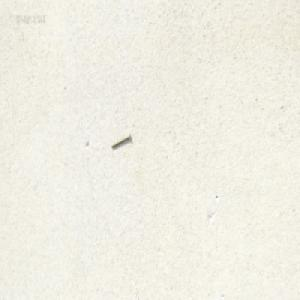Bolt: (110, 132, 130, 148)
